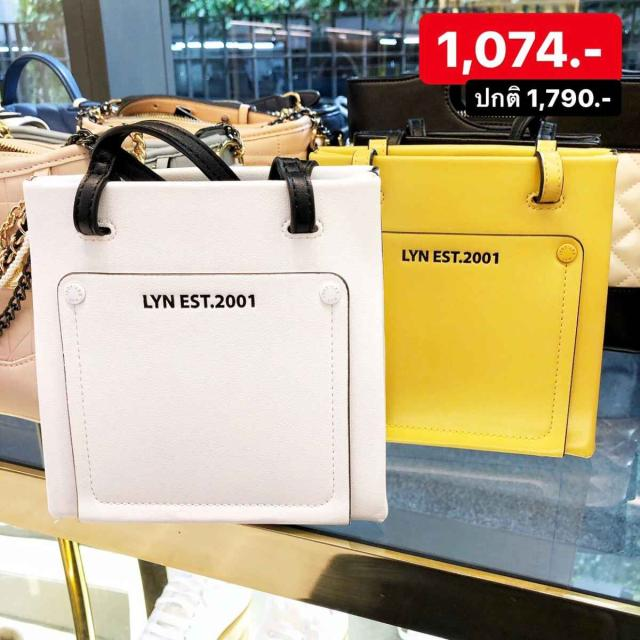handbag: (24, 113, 390, 547)
